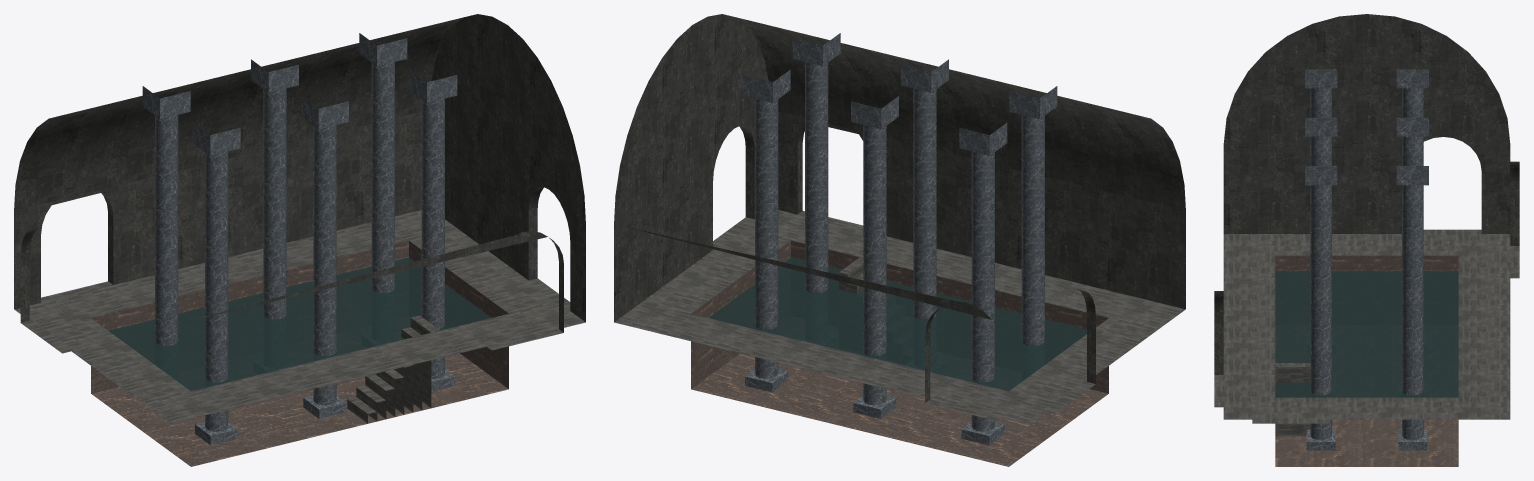
The model's file is cistern.4ffc6e73.gltf.
3 views of the same model, side by side, from view 1: azimuth 30°, elevation 25°; view 2: azimuth 150°, elevation 25°; view 3: azimuth 270°, elevation 25° (orthographic). The views are drawn at different scales.
Visible parts, largest first — view 1: cistern-mesh, cistern-columns, cistern-water; view 2: cistern-mesh, cistern-columns, cistern-water; view 3: cistern-mesh, cistern-water, cistern-columns.
Boxes of the visible parts, box(x1,y1,x2,y2) form: cistern-mesh: box(14, 14, 585, 466); cistern-columns: box(142, 33, 457, 445); cistern-water: box(108, 257, 490, 391); cistern-mesh: box(614, 14, 1185, 466); cistern-columns: box(742, 33, 1057, 445); cistern-water: box(709, 257, 1086, 391); cistern-mesh: box(1214, 14, 1519, 466); cistern-water: box(1275, 271, 1458, 397); cistern-columns: box(1305, 69, 1428, 450).
Bounding box in the file's own units: 12 × 8.35 × 8.
5 materials, 4 textured.
